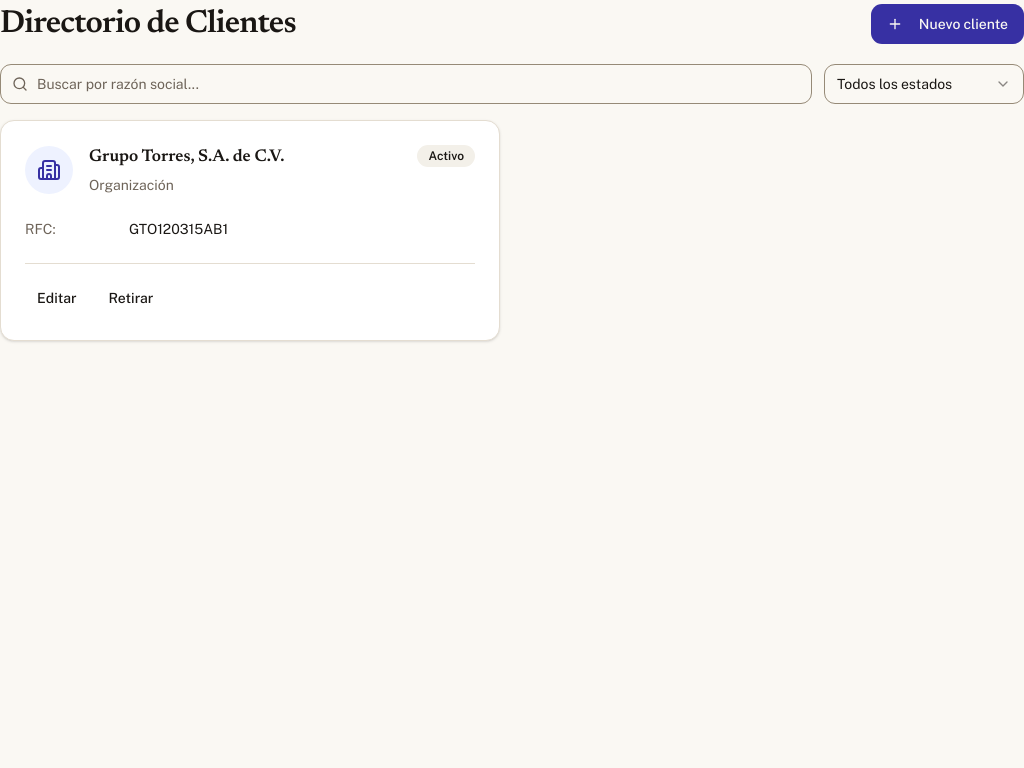
Test: controls are gated on capability, not on an archetype list › opens the create form from the button
Expected: the heading "Grupo Torres, S.A. de C.V." is shown, [89, 145, 284, 170]
Click the button "Nuevo cliente": point(947, 24) [871, 4, 1023, 44]
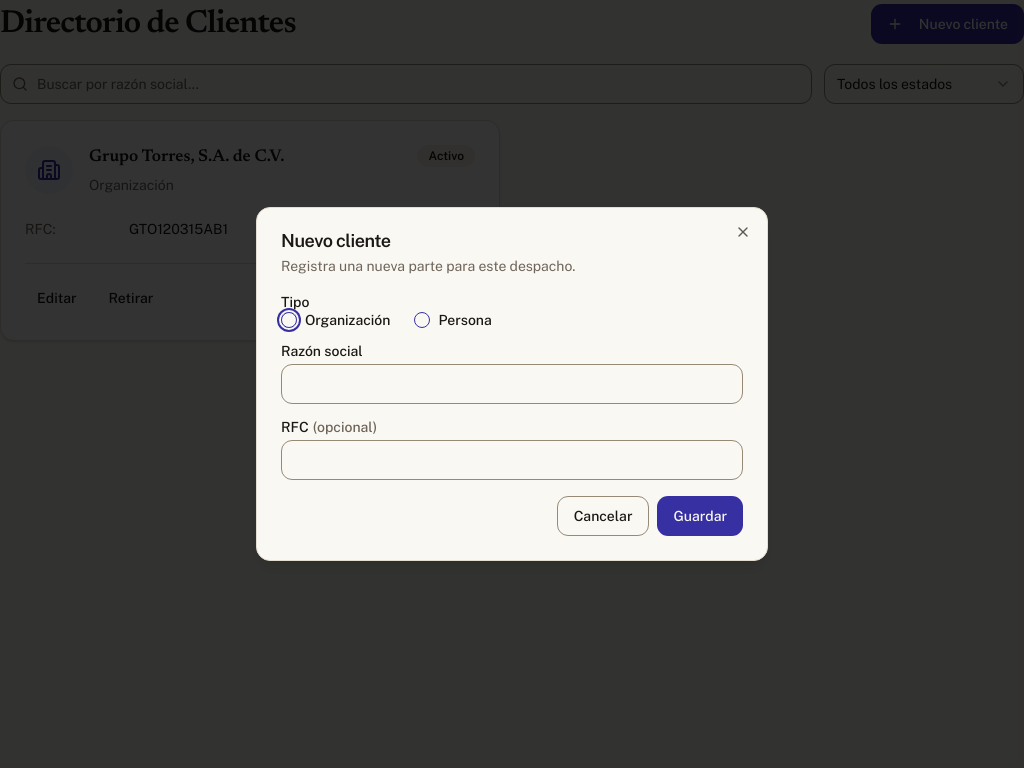
Now the heading "Nuevo cliente" is shown, box [281, 230, 391, 251]
Now the radio button named "persona" next to "Persona" is shown, box [414, 312, 430, 328]
